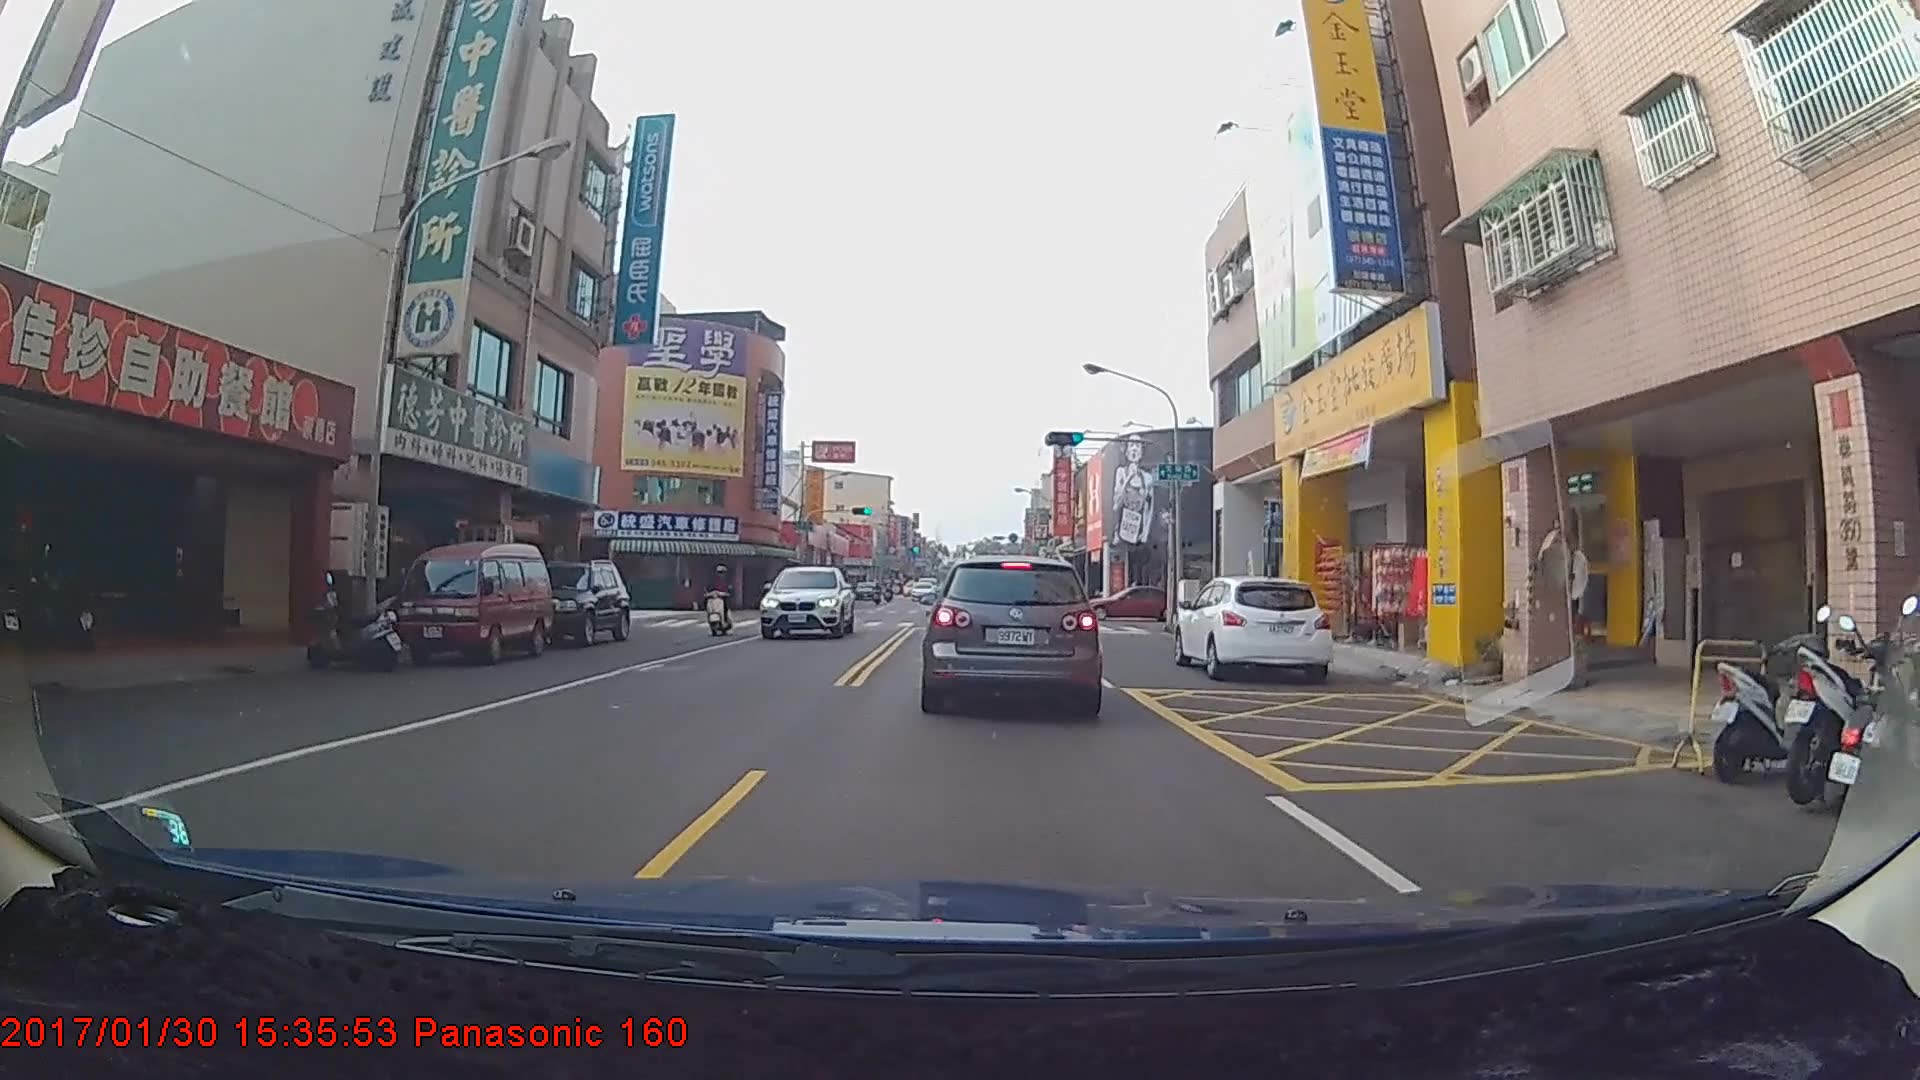rider: (699, 558, 742, 635)
vehicle: (923, 550, 1100, 713), (392, 535, 552, 661), (1170, 573, 1332, 684), (512, 556, 629, 644), (768, 556, 857, 636), (1079, 586, 1188, 620), (910, 577, 936, 597)
